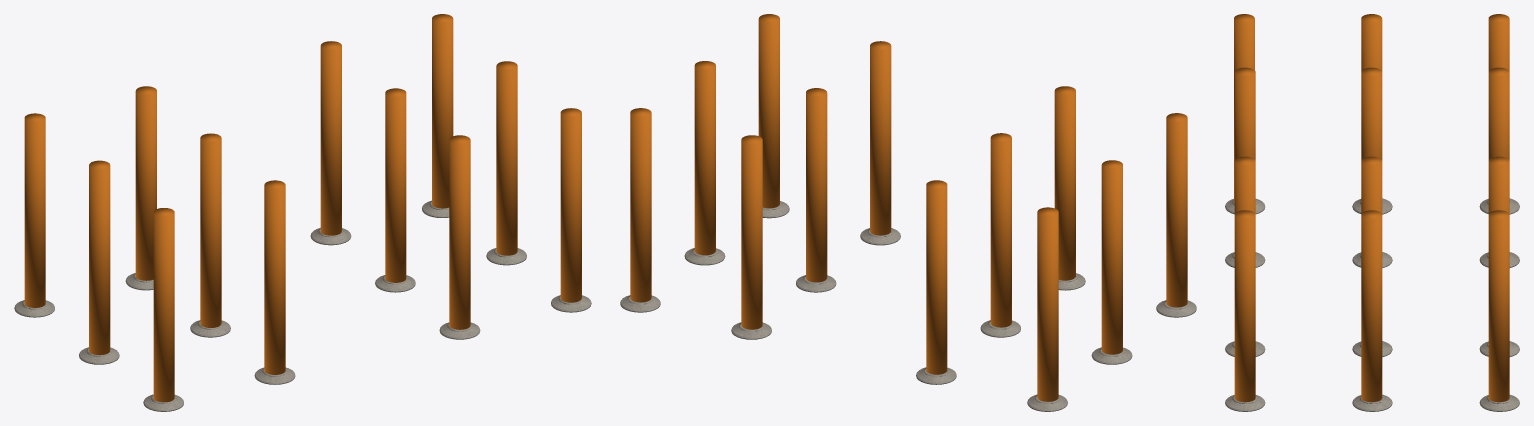
The model's file is building_02.glb.
3 views of the same model, side by side, from view 1: azimuth 30°, elevation 25°; view 2: azimuth 150°, elevation 25°; view 3: azimuth 270°, elevation 25° (orthographic).
Parts seen in each view (by area): view 1: full_building.002; view 2: full_building.002; view 3: full_building.002.
Part boxes in pixels (box(x1,y1,x2,y2)): full_building.002: box(14, 14, 591, 411); full_building.002: box(620, 14, 1196, 411); full_building.002: box(1225, 14, 1519, 411).
Size of the model in its own units: 3.16 by 1.3 by 1.84.
Materials: 2 (1 with a texture image).
